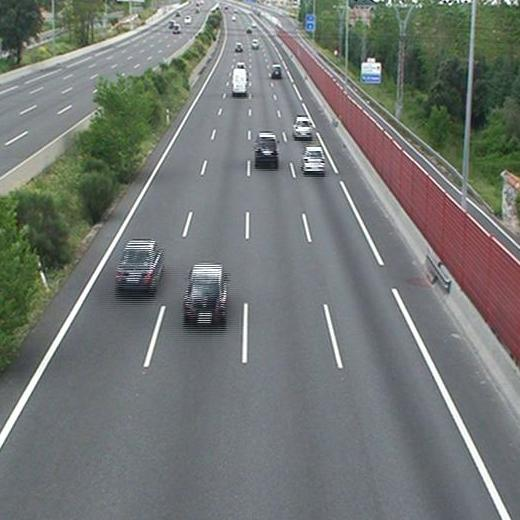car: (184, 264, 226, 323), (115, 241, 163, 290), (254, 133, 278, 163), (303, 146, 324, 171), (292, 117, 313, 138), (271, 65, 282, 79), (250, 40, 260, 48), (234, 43, 242, 51)
van: (232, 69, 247, 95)
